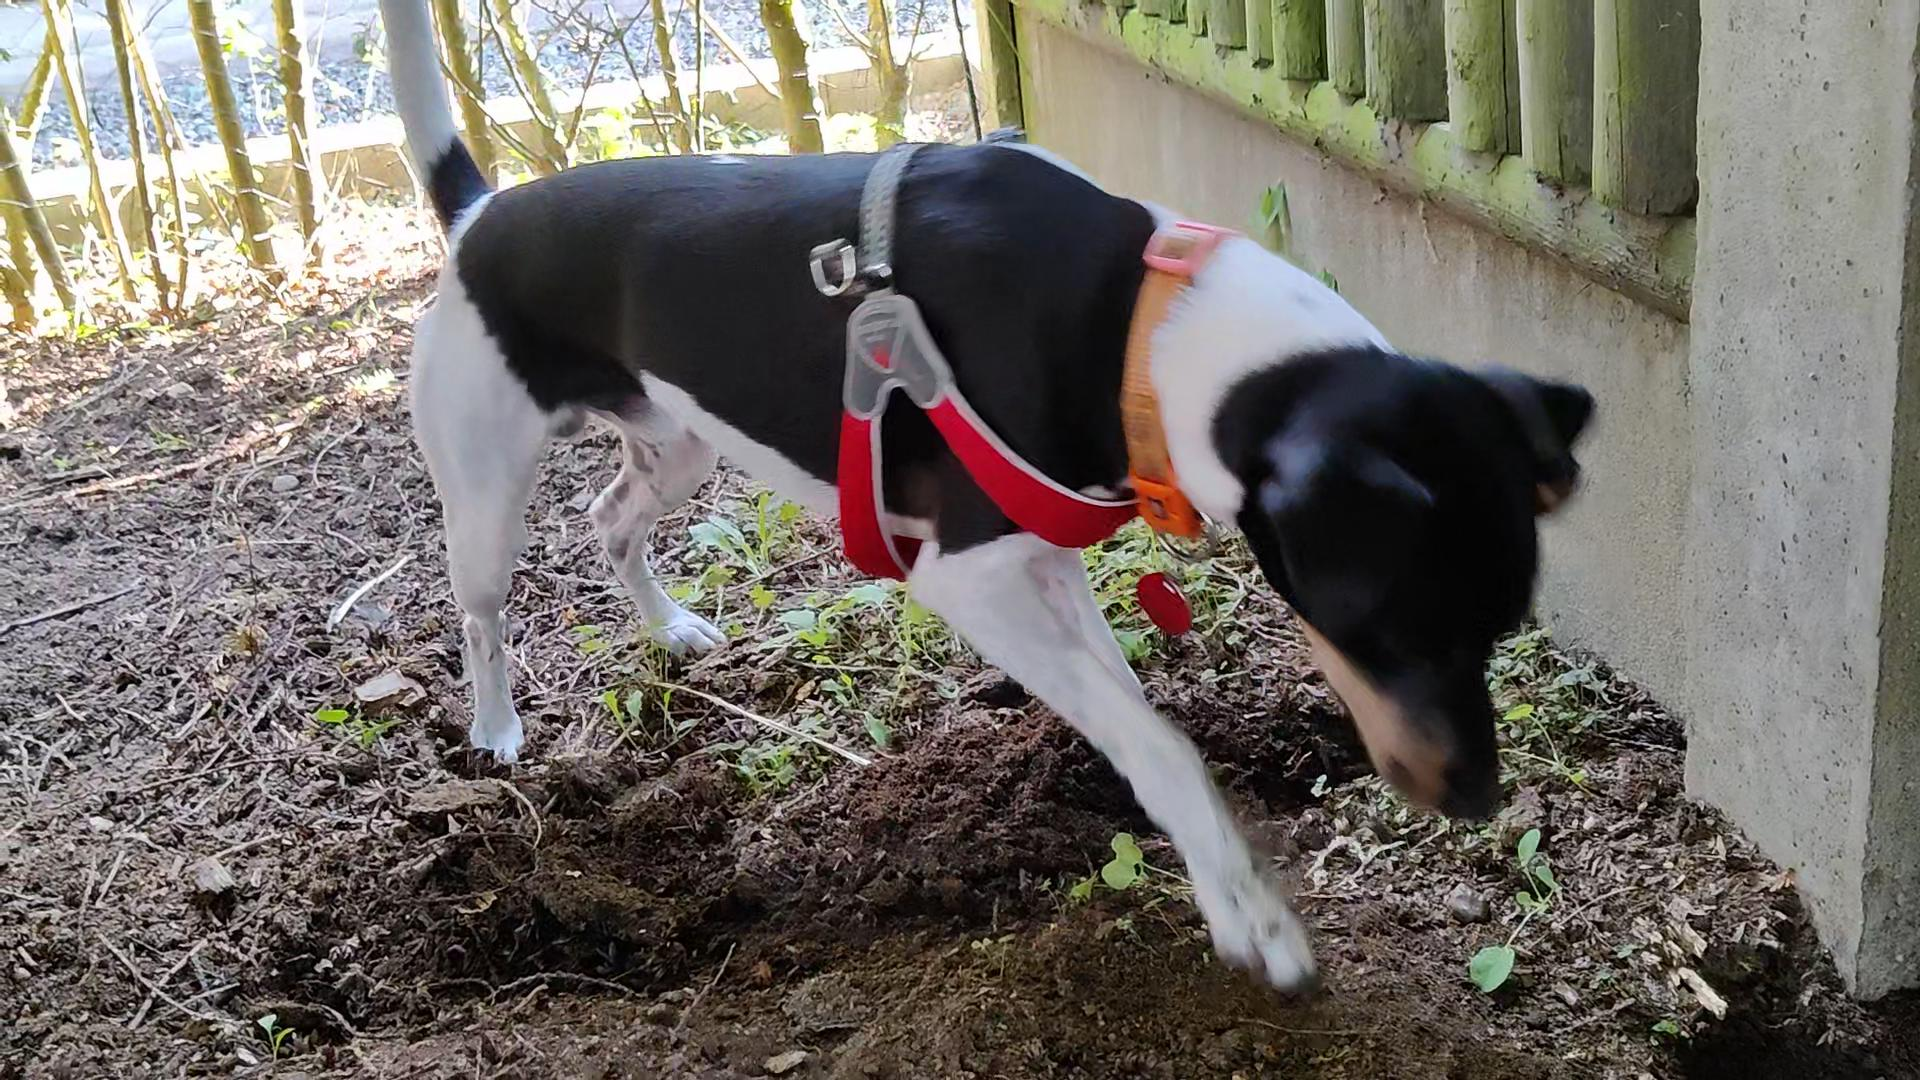Dog: (364, 0, 1611, 994)
